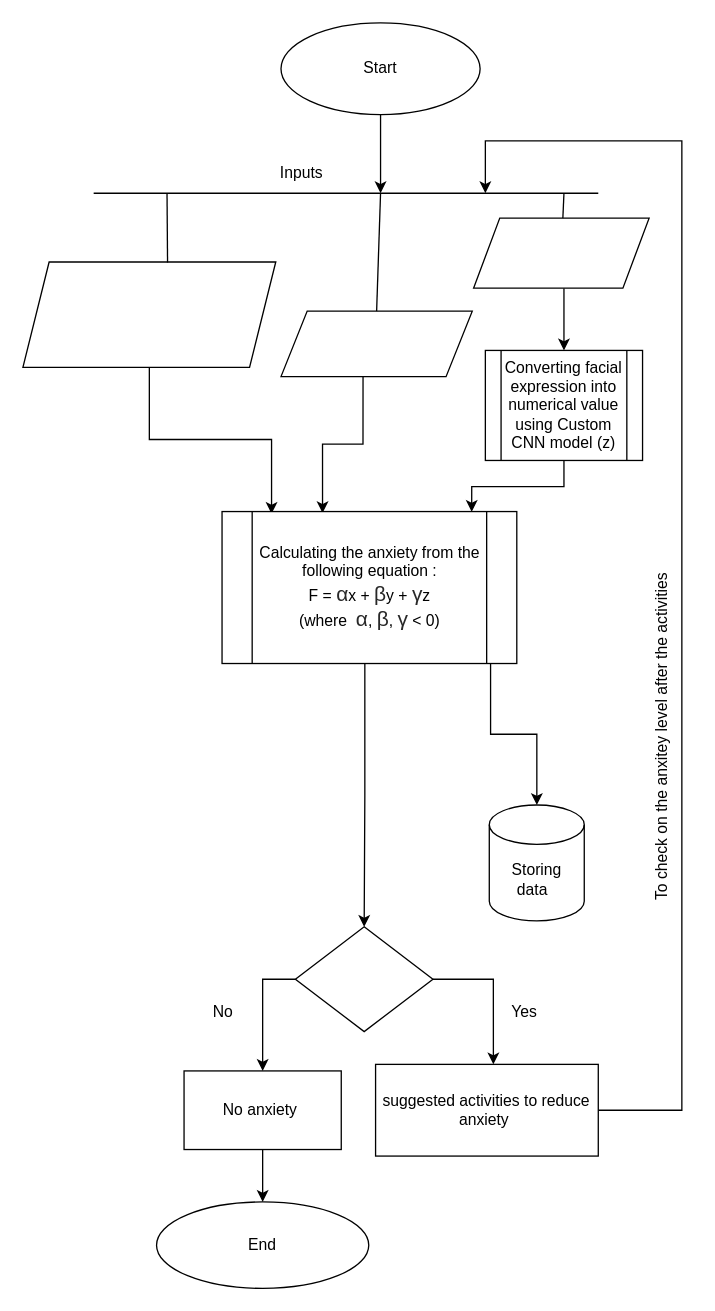
The diagram is 715 pixels wide and 1311 high, and some of its shapes have lost their labels. Here are the shapes that lost their labels. From the top down, the centre of each, then its label:
At (x=560, y=252): "Facial Image using Custom CNN".
At (x=149, y=314): "Depression (x) score using question from Handbook of Psychiatric Rating Scales".
At (x=376, y=343): "Heart Rate (y) using Pulse Oximeter (MAX30102)".
At (x=363, y=979): "F > anxiety level".
